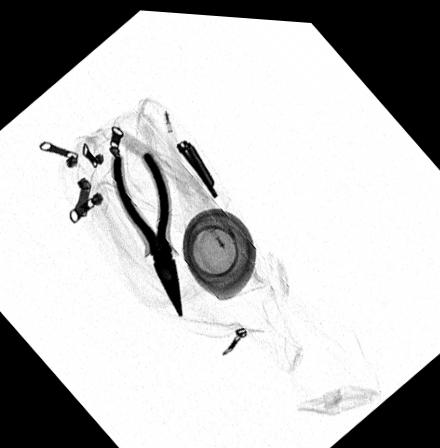Pliers: (111, 150, 181, 313)
